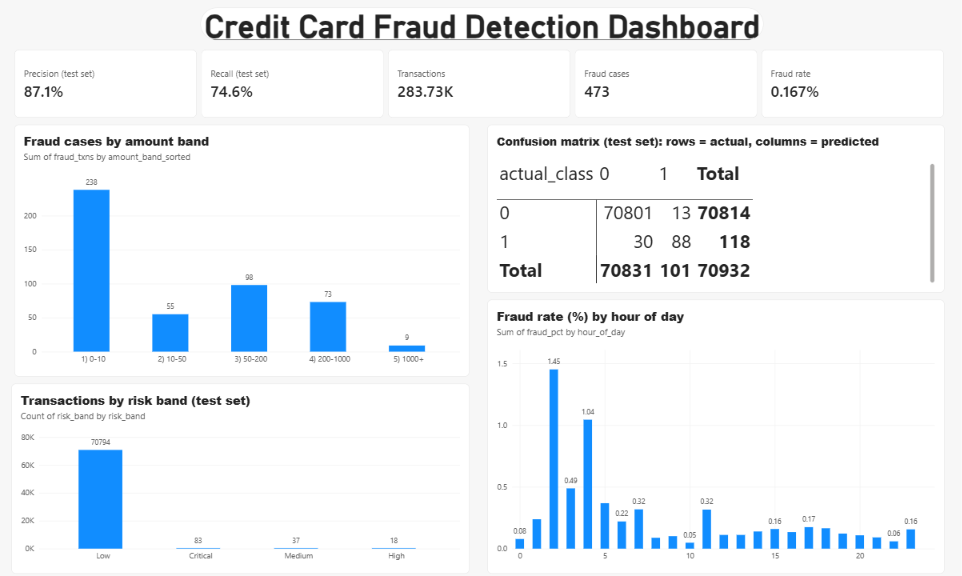

The page's visual inventory and layout, read from the dashboard file:
{"tool":"powerbi","page":{"name":"Page 1","canvas":[1920,1080],"ordinal":0},"visuals":[{"type":"cardVisual","fields":{"Data":["predictions.Precision","predictions.Recall","Sum(overall_summary.txns)","Sum(overall_summary.fraud_txns)","predictions.Fraud Rate Label"]},"box":[152,115.8,1683,123.1],"z":0},{"type":"clusteredColumnChart","title":"Fraud cases by amount band","fields":{"Category":["fraud_by_amount.amount_band_sorted"],"Y":["Sum(fraud_by_amount.fraud_txns)"]},"box":[152,251.5,823.4,456],"z":1000},{"type":"clusteredColumnChart","title":"Fraud rate (%) by hour of day","fields":{"Category":["fraud_by_hour.hour_of_day"],"Y":["Sum(fraud_by_hour.fraud_pct)"]},"box":[1008,568.2,827,495.8],"z":2000},{"type":"clusteredColumnChart","title":"Transactions by risk band (test set)","fields":{"Category":["predictions.risk_band"],"Y":["CountNonNull(predictions.risk_band)"]},"box":[146.6,720.2,828.8,343.8],"z":3000},{"type":"pivotTable","title":"Confusion matrix (test set): rows = actual, columns = predicted","fields":{"Columns":["predictions.predicted_class"],"Rows":["predictions.actual_class"],"Values":["CountNonNull(predictions.Amount)"]},"box":[1008,251.5,827,304],"z":4000},{"type":"textbox","title":"Credit Card Fraud Detection Dashboard","box":[488.6,39.8,1019.6,59.4],"z":5000}]}

Visuals, with their boxes on the page's 1920x1080 design canvas (x1, y1, x2, y2). These are canvas units, not pixel positions in the 962x576 screenshot, which may show the page scaled, cropped or inside an application window:
cardVisual - predictions.Precision x predictions.Recall: (x1=152, y1=116, x2=1835, y2=239)
"Fraud cases by amount band" clusteredColumnChart: (x1=152, y1=252, x2=975, y2=708)
"Fraud rate (%) by hour of day" clusteredColumnChart: (x1=1008, y1=568, x2=1835, y2=1064)
"Transactions by risk band (test set)" clusteredColumnChart: (x1=147, y1=720, x2=975, y2=1064)
"Confusion matrix (test set): rows = actual, columns = predicted" pivotTable: (x1=1008, y1=252, x2=1835, y2=556)
"Credit Card Fraud Detection Dashboard" textbox: (x1=489, y1=40, x2=1508, y2=99)
